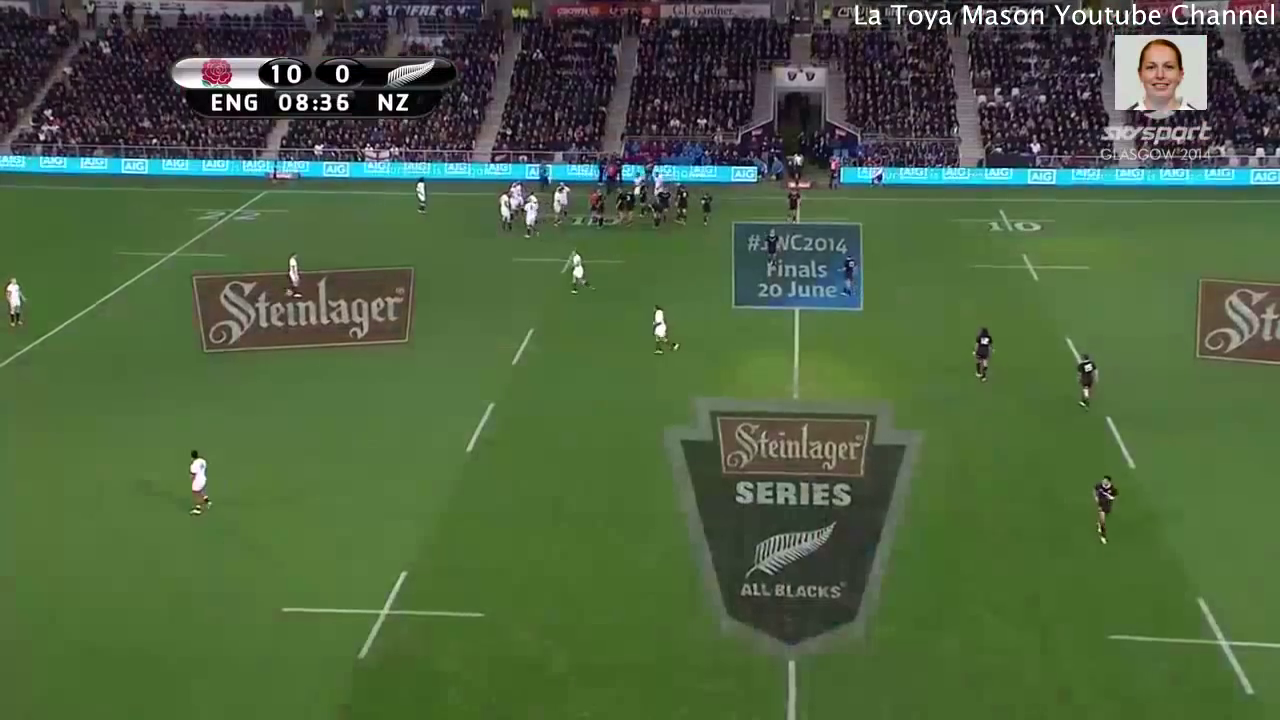10_metre: (1092, 574, 1280, 703), (265, 563, 492, 665), (957, 242, 1101, 297), (945, 199, 1073, 240), (507, 238, 631, 279)
player: (179, 444, 219, 522), (1087, 468, 1121, 551), (644, 297, 686, 363), (1072, 346, 1105, 418), (965, 323, 1000, 390), (1, 270, 33, 332), (275, 248, 310, 303), (563, 245, 595, 301), (834, 244, 863, 305), (407, 169, 433, 217), (671, 183, 697, 228), (758, 226, 782, 268), (497, 189, 517, 236), (548, 184, 566, 234), (522, 197, 542, 242), (556, 177, 575, 223), (636, 178, 657, 219), (698, 187, 718, 230), (586, 183, 604, 230), (783, 185, 803, 227), (621, 189, 638, 232), (655, 187, 675, 221), (504, 179, 521, 219), (650, 199, 671, 231), (611, 184, 627, 224), (523, 187, 541, 204), (653, 170, 660, 189)
